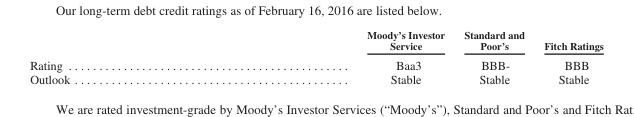table: (29, 28, 602, 86)
table column: (218, 28, 453, 86), (29, 28, 218, 86), (453, 28, 533, 86), (533, 28, 602, 86)
table column header: (29, 28, 602, 54)
table row: (29, 28, 602, 54), (29, 54, 602, 71), (29, 71, 602, 86)
